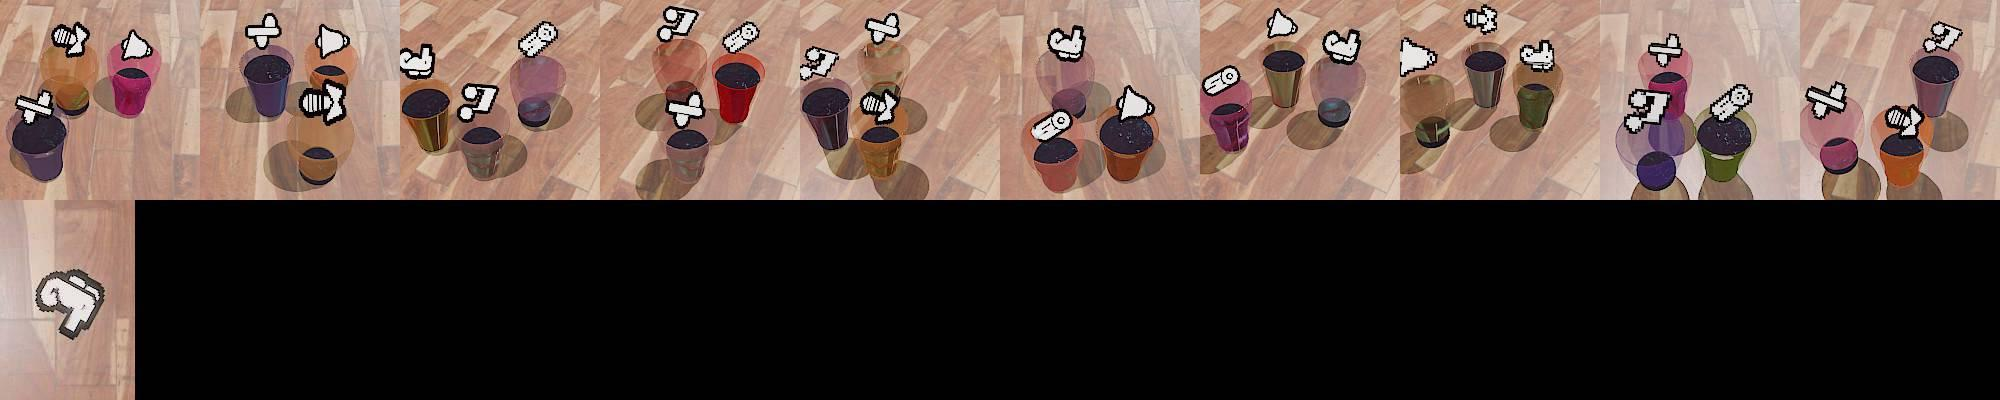icon: (34, 267, 107, 339), (1623, 87, 1674, 133), (298, 79, 347, 123), (1707, 82, 1754, 123), (1046, 22, 1089, 65), (858, 84, 901, 126), (663, 87, 706, 128), (1804, 80, 1848, 119), (658, 5, 703, 43), (516, 20, 559, 59), (458, 83, 501, 122), (1115, 83, 1154, 123), (14, 88, 57, 124), (1322, 27, 1362, 65), (720, 19, 761, 56), (799, 45, 840, 82), (1030, 107, 1073, 142), (51, 21, 91, 58), (398, 42, 436, 80), (245, 12, 283, 50), (1400, 38, 1436, 78), (1883, 101, 1924, 136), (1648, 33, 1684, 69), (315, 23, 350, 60), (1922, 20, 1961, 53), (1519, 39, 1556, 73), (1202, 65, 1240, 98), (864, 12, 901, 45), (1464, 4, 1499, 35), (119, 29, 153, 60), (1266, 8, 1299, 39)
